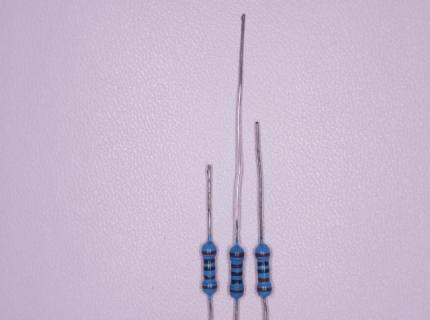Black band: (257, 267, 269, 273), (231, 271, 243, 276), (257, 262, 269, 267), (204, 266, 216, 271), (231, 279, 242, 284), (204, 259, 215, 264)
Brown band: (230, 251, 244, 258), (255, 252, 270, 258), (204, 274, 215, 281), (201, 250, 216, 255), (257, 287, 272, 292), (202, 285, 217, 290), (258, 277, 270, 283), (230, 289, 244, 294), (231, 263, 242, 268)
